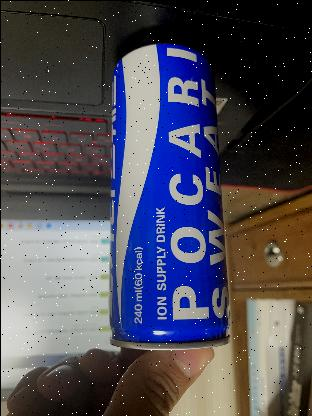Can: (106, 45, 232, 353)
